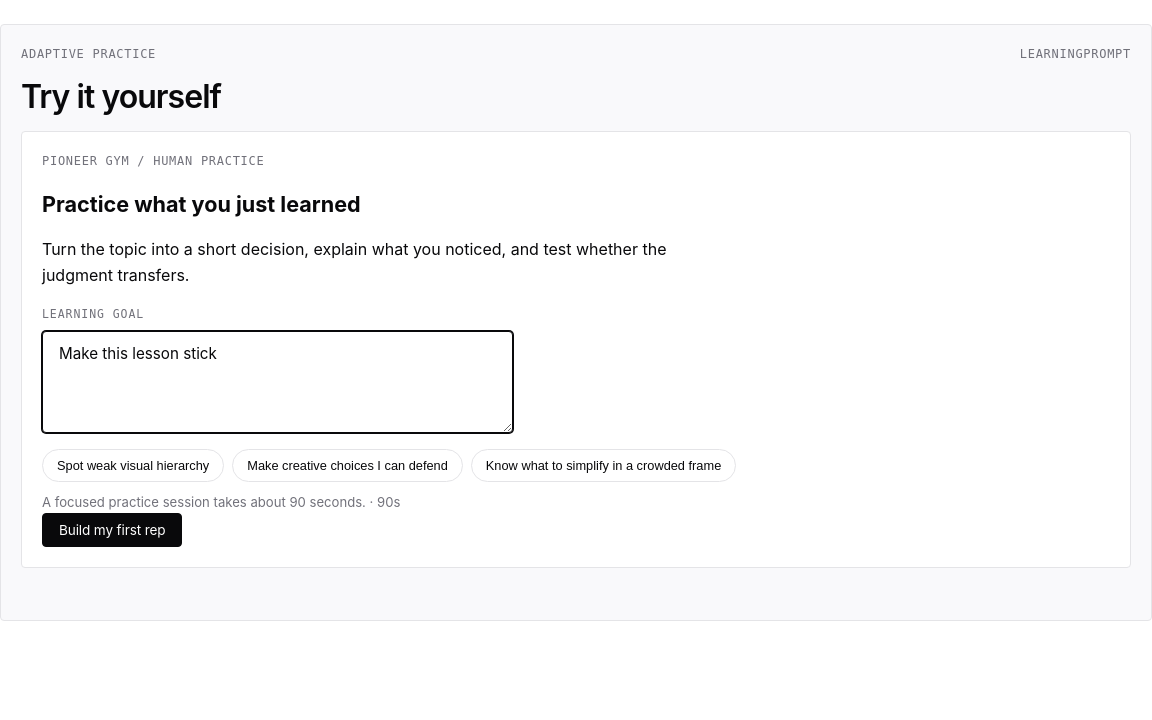
Test: NovelGymPanel › submits the learner's changed layer order with its exact contract
expect the text box labelled "Learning goal" holds "Make this lesson stick": met, box [42, 331, 513, 433]
Click the button "Build my first rep" at (112, 530), box [42, 513, 182, 547]
(page scrolled)
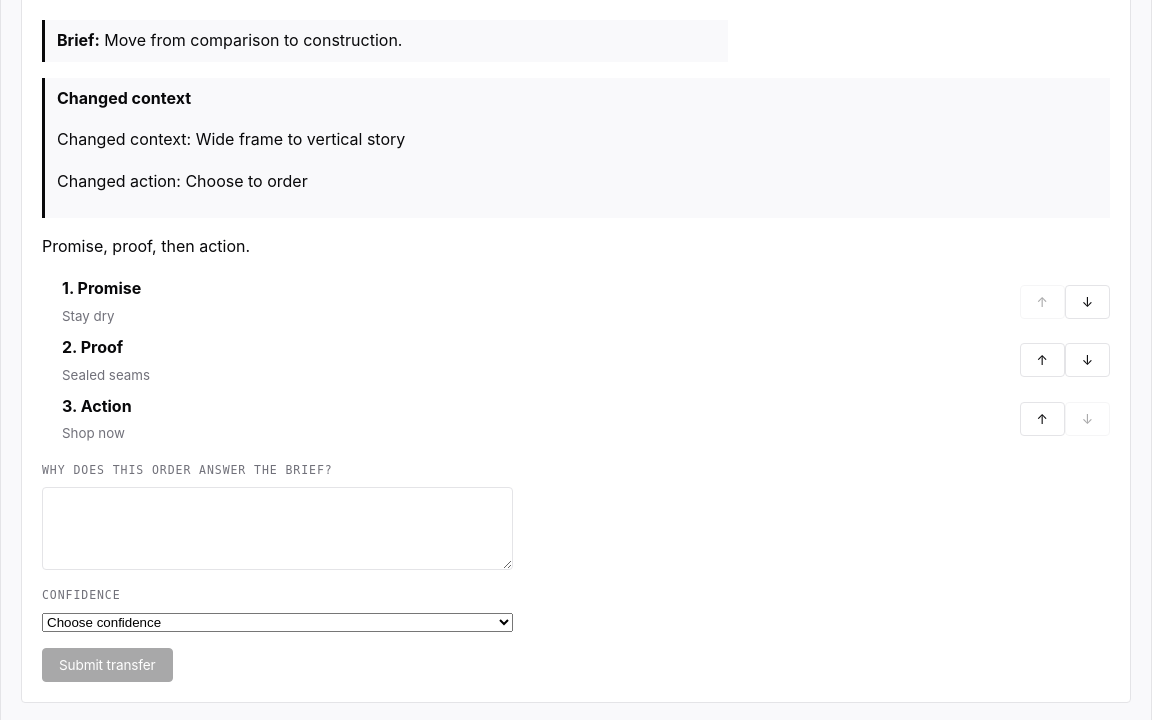
Click the button named "Move Proof up" at (1042, 360), box [1020, 343, 1065, 377]
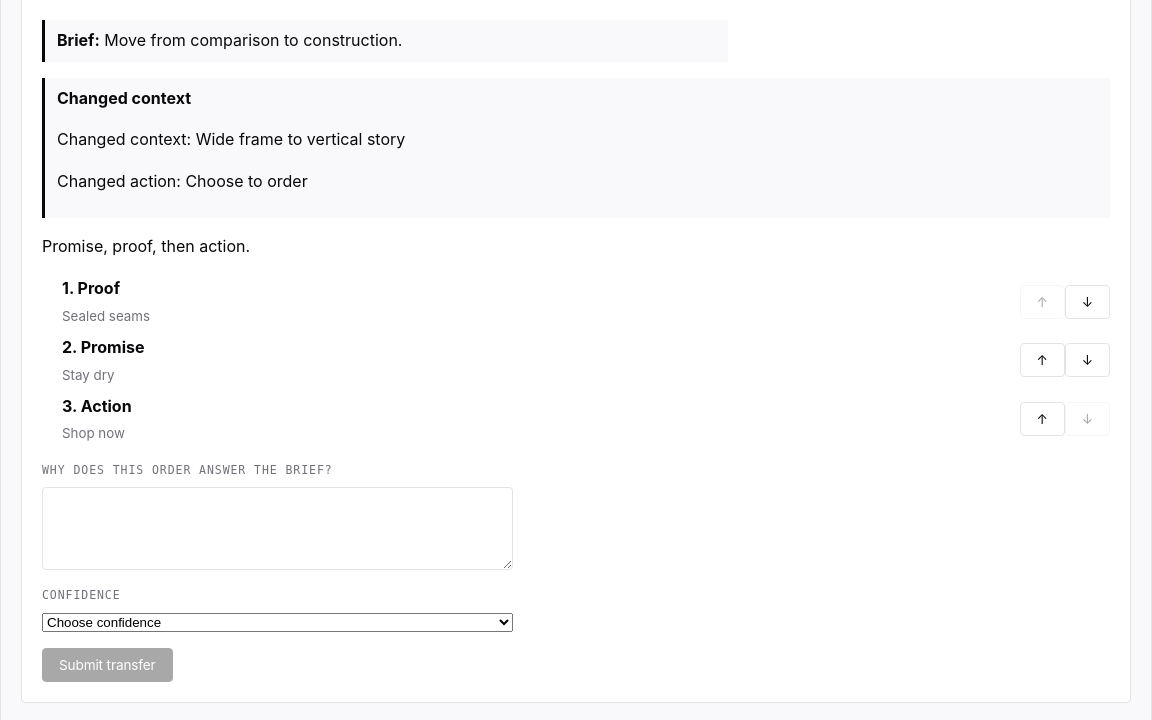
Type "Proof supports the promise" into the text box labelled "Why does this order answer the brief?" at (278, 529), box [42, 487, 513, 570]
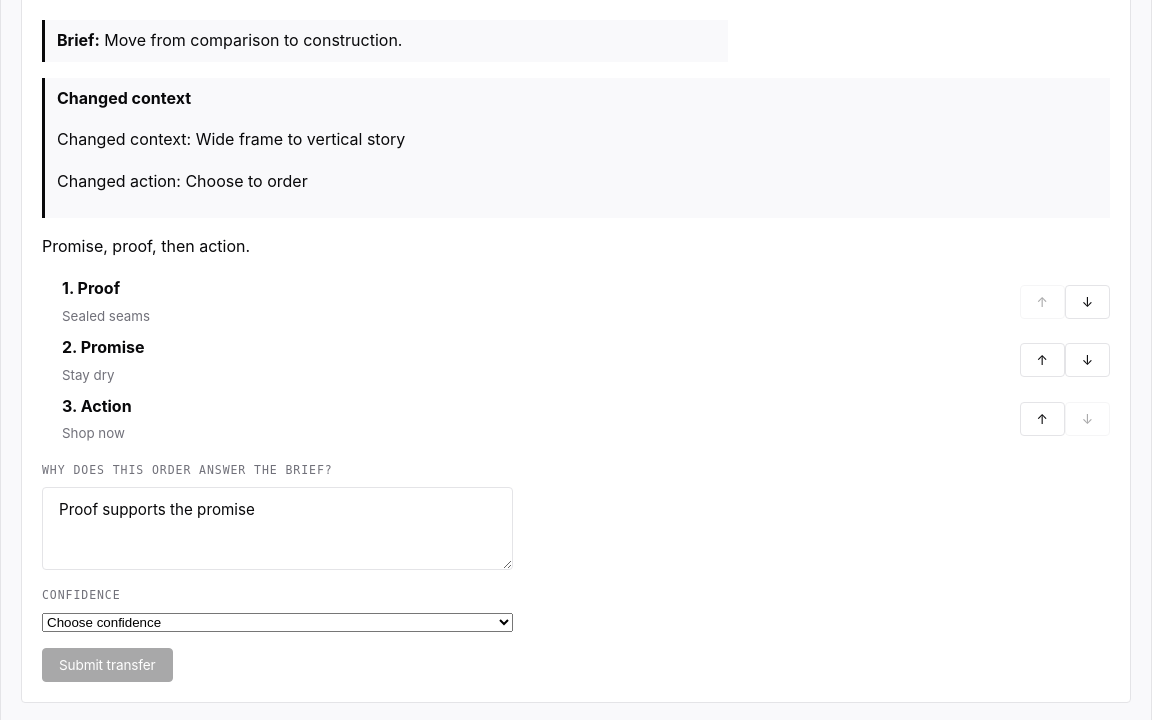
Select "Medium" in the dropdown labelled "Confidence" at (278, 622), box [42, 613, 513, 632]
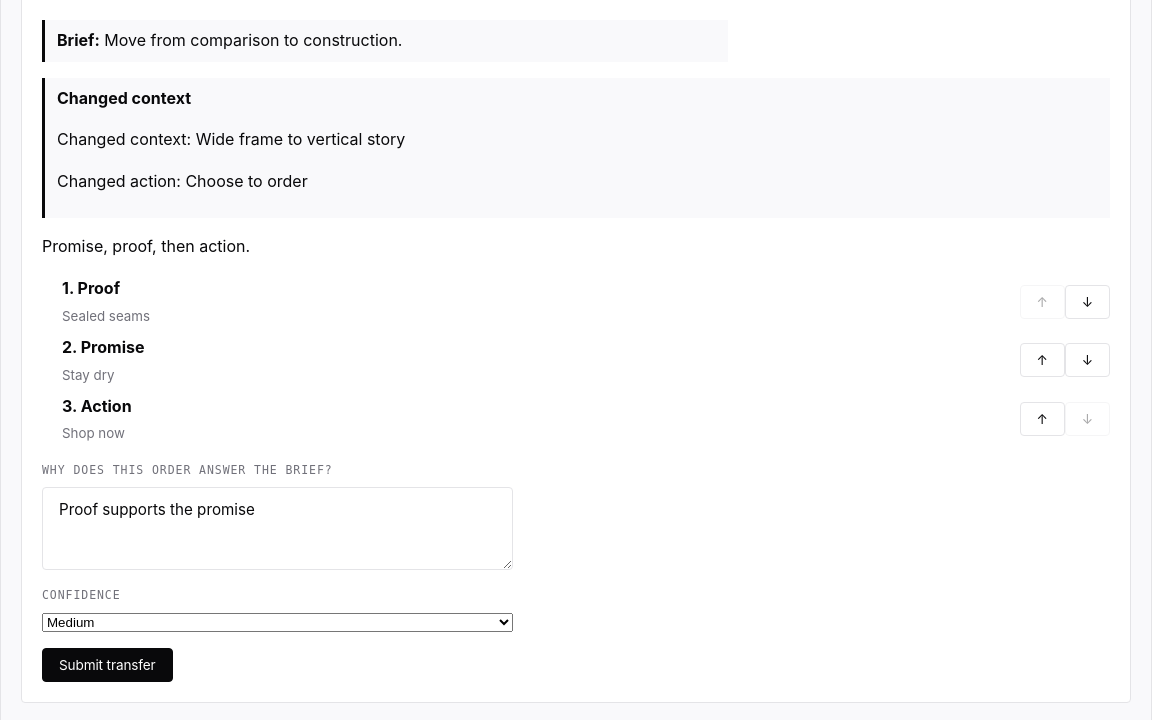
Click the button "Submit transfer" at (107, 665), box [42, 648, 173, 682]
(page scrolled)
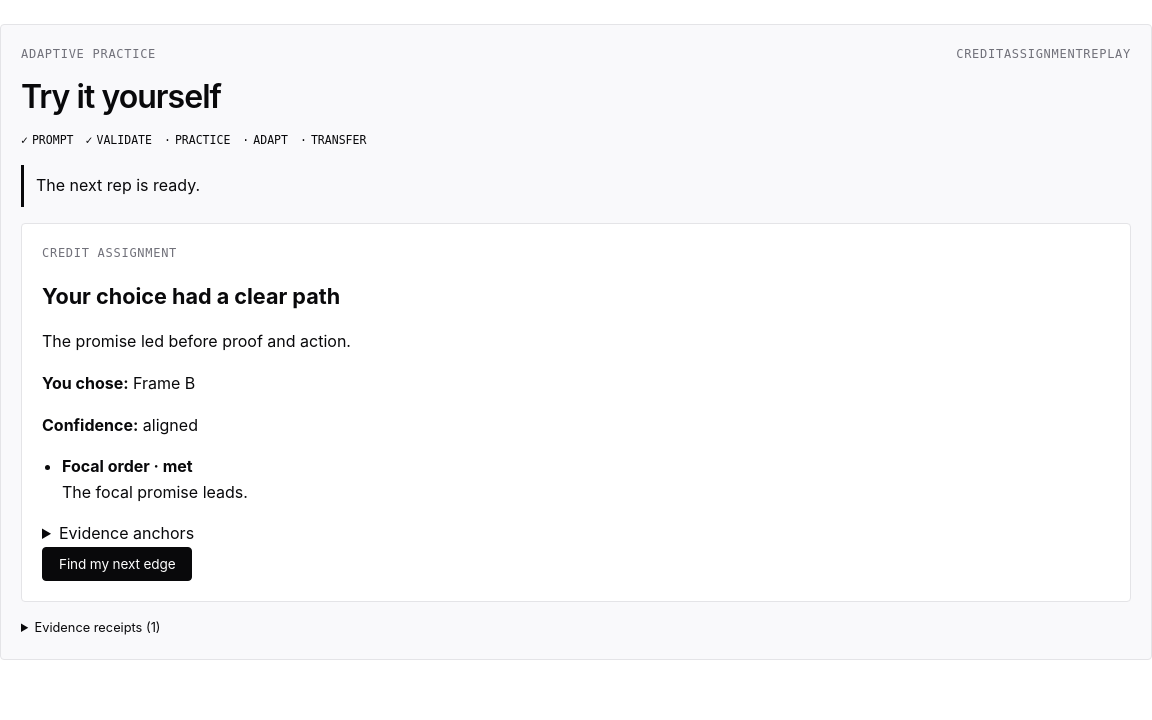
expect the element with test id "CreditAssignmentReplay" is shown: met, box [21, 223, 1131, 602]
